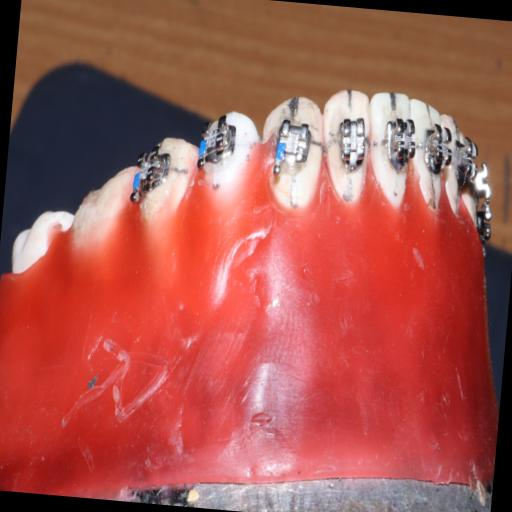correct_brace: (329, 112, 370, 174)
incorrect_brace: (315, 80, 375, 214), (270, 114, 314, 184)
